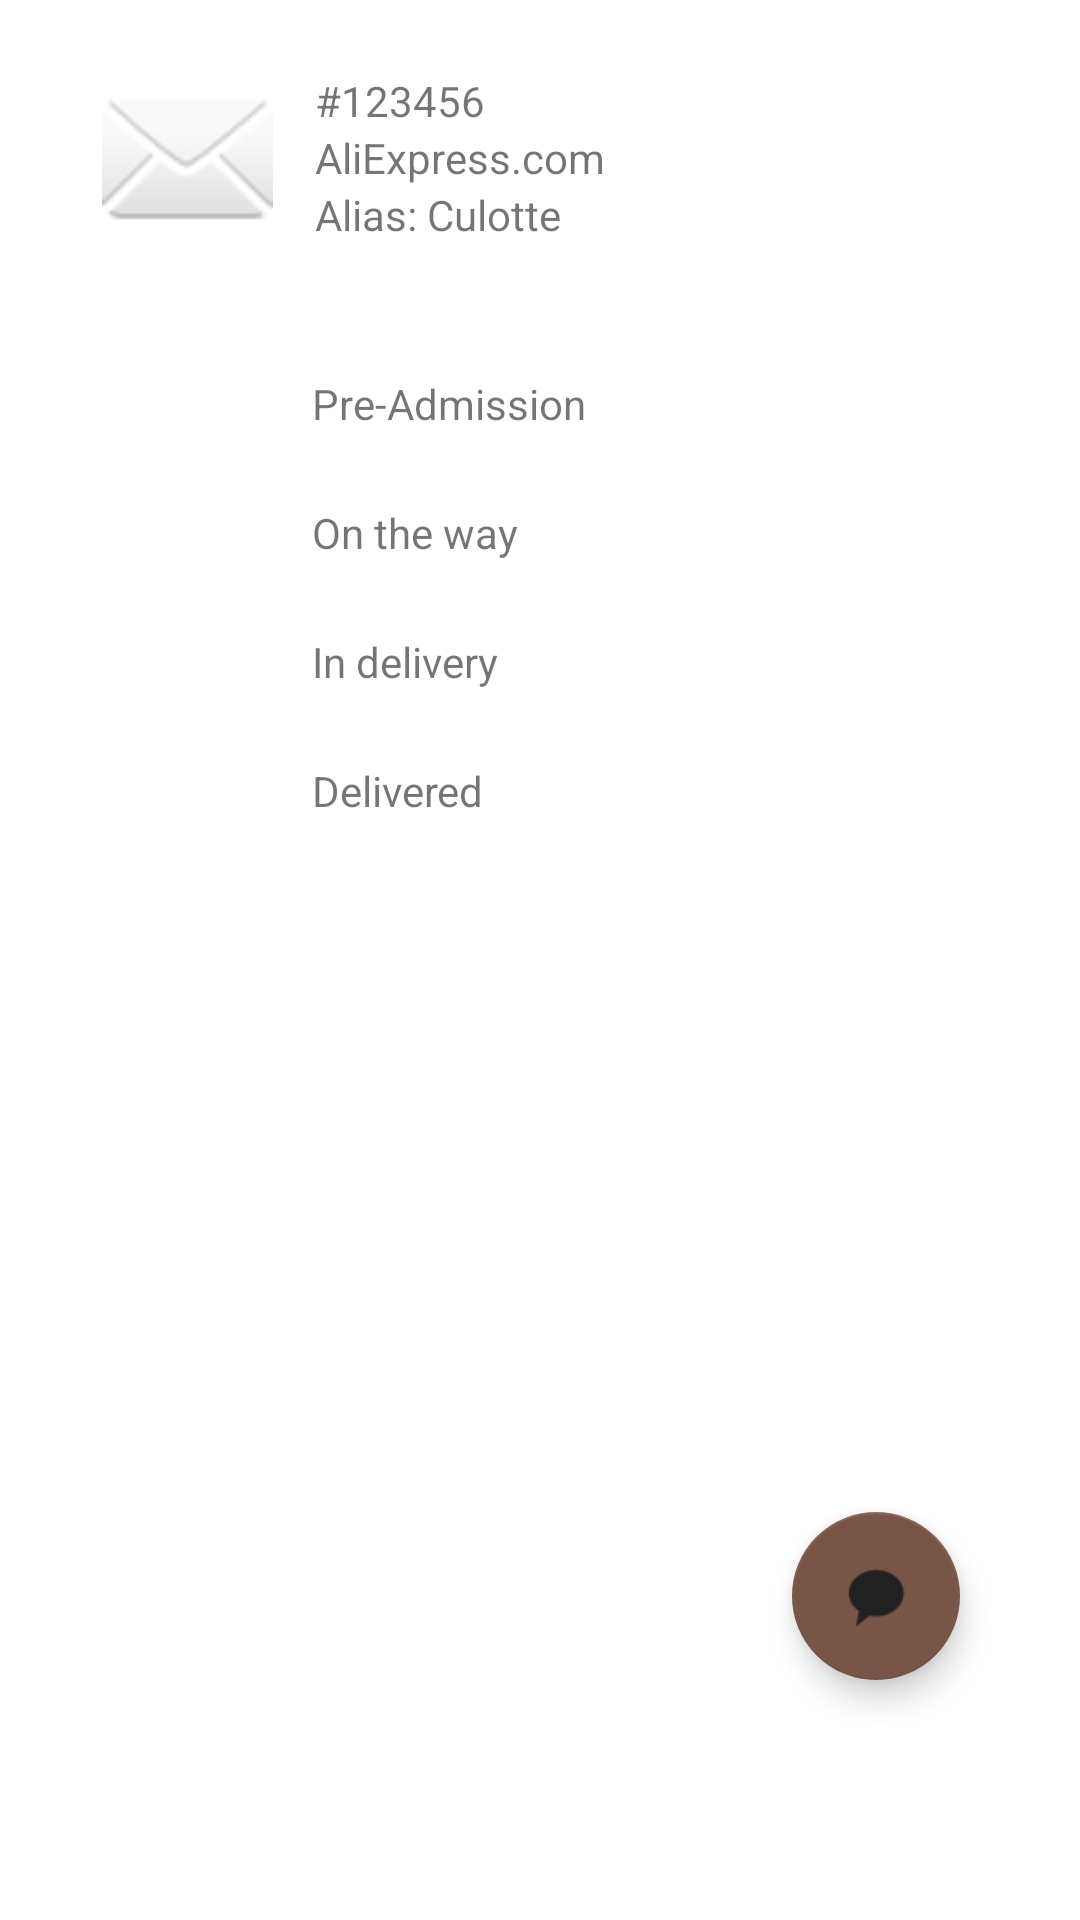

Named icons in this screenshot (1080px×1920px) and their centers, point (x, y):
Chat button: point (876, 1596)
email: point (187, 160)
